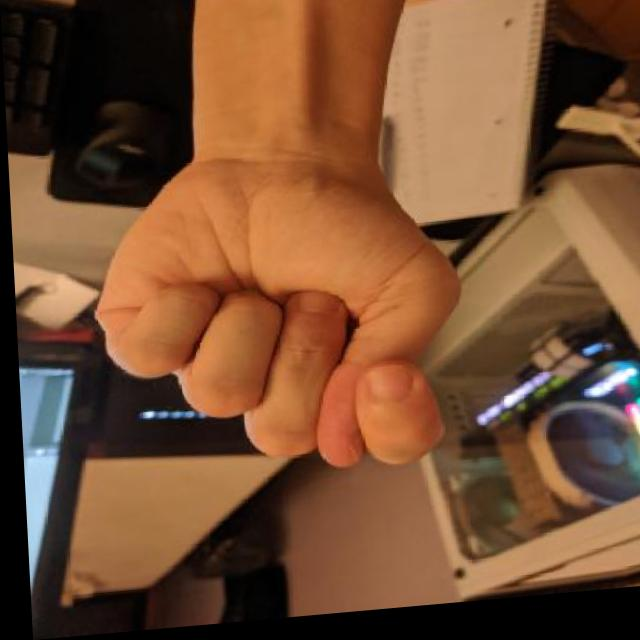T: (79, 135, 477, 500)
